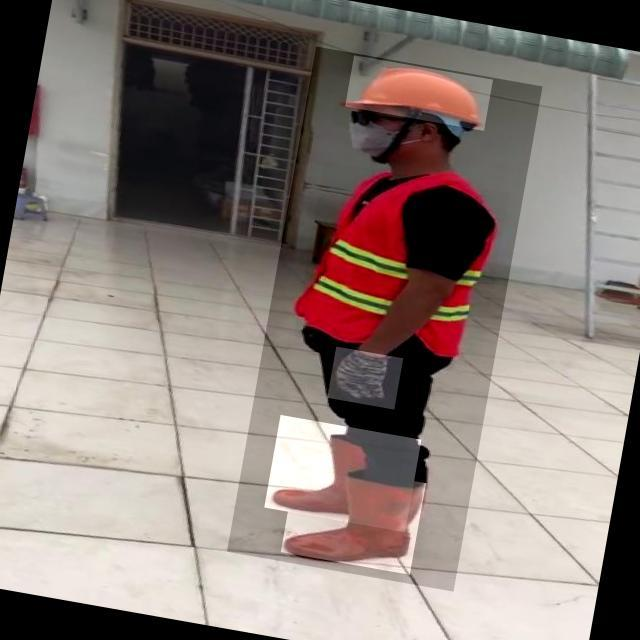Gloves: (327, 346, 403, 409)
Helmet: (345, 55, 493, 131)
Human: (227, 46, 543, 591)
Safety Boot: (264, 415, 422, 532), (281, 460, 427, 575)
Safety Vest: (293, 160, 509, 368)
